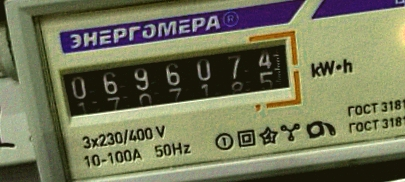0: (68, 74, 90, 101), (194, 55, 214, 83)
4: (255, 47, 274, 71)
5: (258, 70, 277, 91)
6: (162, 59, 183, 88), (100, 69, 121, 96)
7: (226, 53, 245, 80)
9: (132, 64, 151, 92)
screen: (48, 27, 309, 138)
